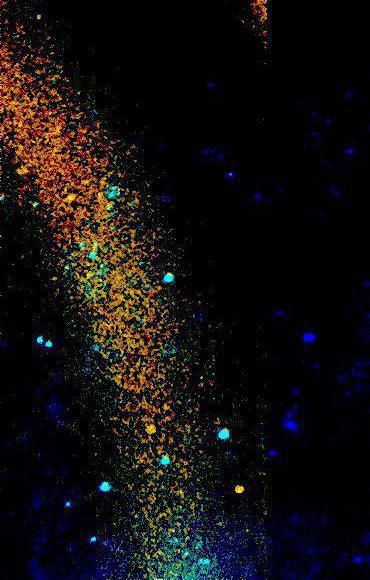star: (136, 423, 166, 453)
